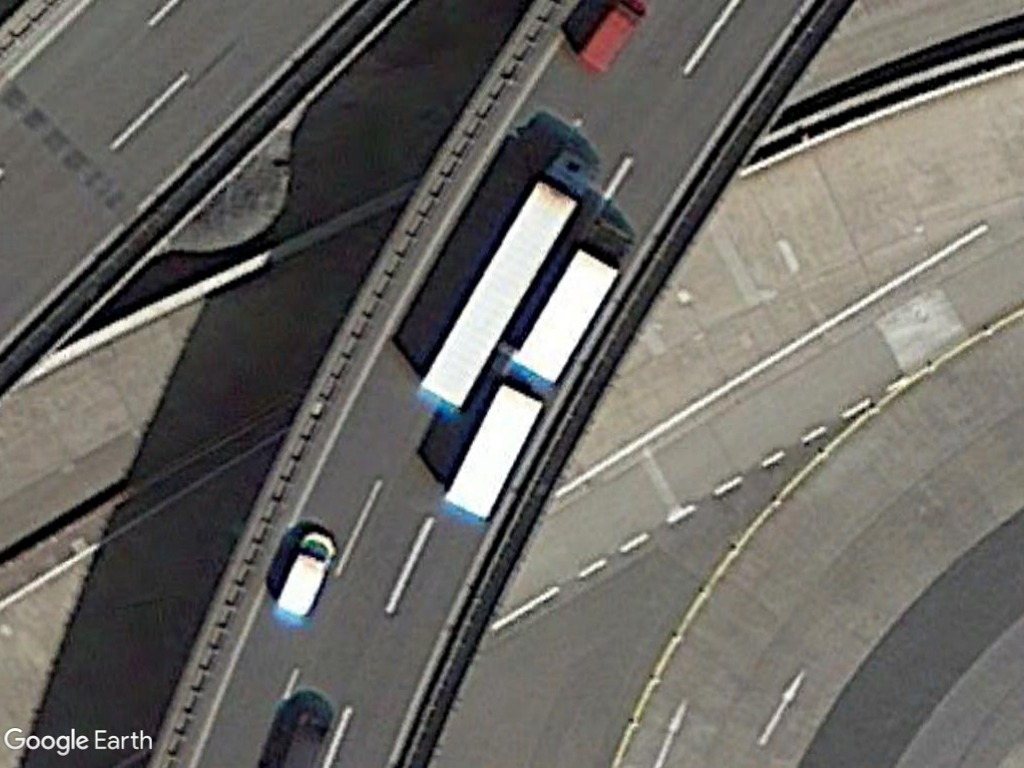longvehicle: (407, 139, 603, 418), (440, 374, 548, 529)
truck: (509, 217, 635, 393)
van: (271, 525, 338, 621)
